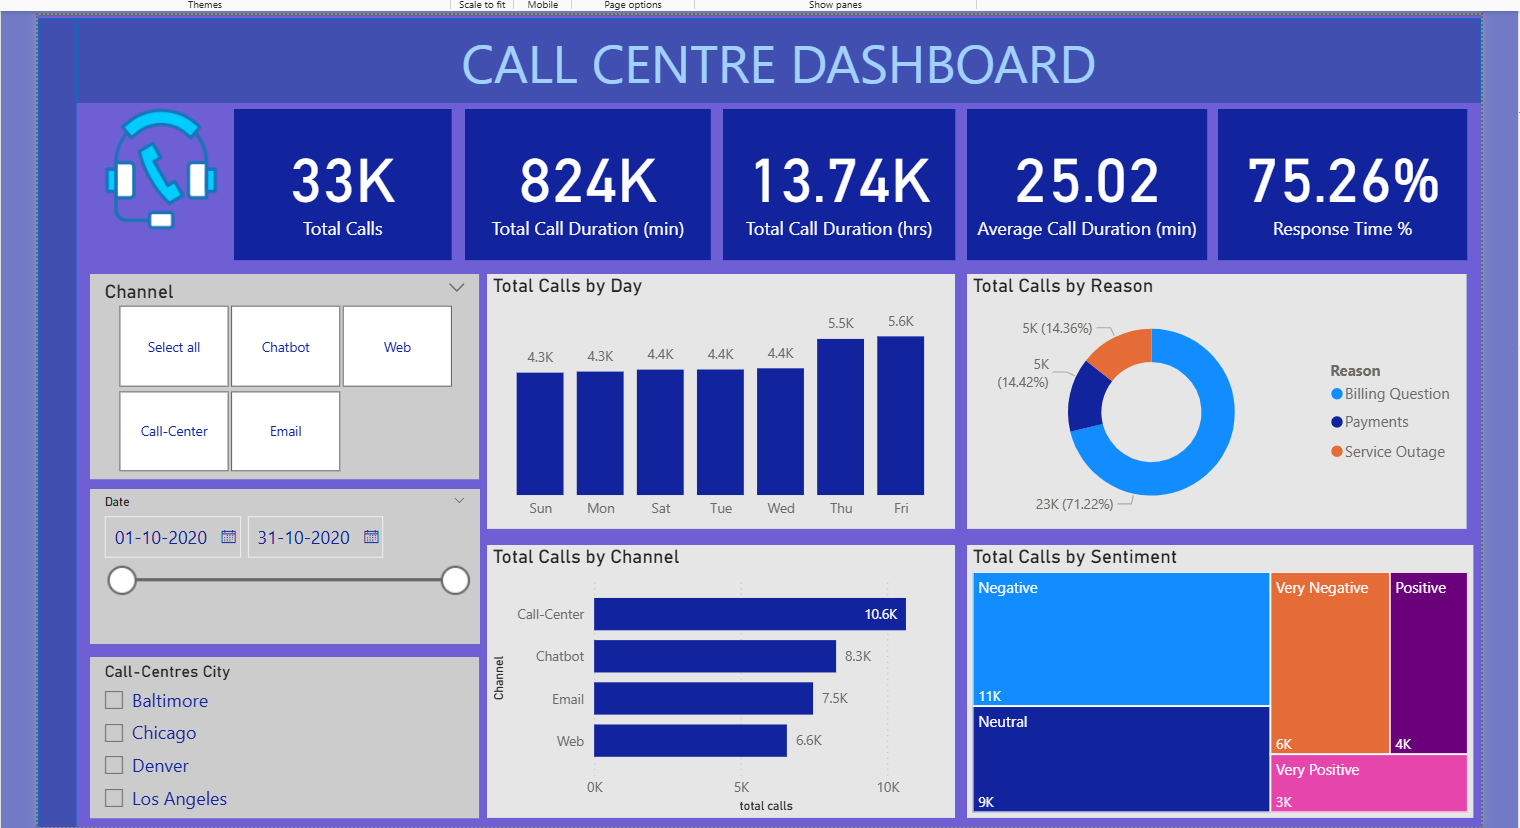

This screenshot's page, from the dashboard's own definition file:
{"tool":"powerbi","page":{"name":"Call centre Dashboard","canvas":[1280,720],"ordinal":0},"visuals":[{"type":"card","fields":{"Values":["Call Center_Call Center.total calls"]},"box":[174,83,193,134],"z":0},{"type":"card","title":"Total Call Duration (min)","fields":{"Values":["Sum(Call Center_Call Center.Call Duration In Minutes)"]},"box":[379,83,218,134],"z":1000},{"type":"card","fields":{"Values":["Call Center_Call Center.total call duartion (hrs)"]},"box":[607,83,206,134],"z":2000},{"type":"card","fields":{"Values":["Avg(Call Center_Call Center.Call Duration In Minutes)"]},"box":[824,83,213,134],"z":3000},{"type":"card","fields":{"Values":["Call Center_Call Center.response time %"]},"box":[1046,83,221,134],"z":4000},{"type":"columnChart","title":"Total Calls by Day","fields":{"Category":["Data table.Day"],"Y":["Call Center_Call Center.total calls"]},"box":[398,230,415,226],"z":5000},{"type":"clusteredBarChart","title":"Total Calls by Channel","fields":{"Category":["Call Center_Call Center.Channel"],"Y":["Call Center_Call Center.total calls"]},"box":[398,470,415,242],"z":7000},{"type":"treemap","title":"Total Calls by Sentiment","fields":{"Group":["Call Center_Call Center.Sentiment"],"Values":["Call Center_Call Center.total calls"]},"box":[824,470,449,242],"z":8000},{"type":"slicer","fields":{"Values":["Call Center_Call Center.Channel"]},"box":[46,230,345,182],"z":9000},{"type":"slicer","fields":{"Values":["Data table.Date"]},"box":[46,420,345,137],"z":10000},{"type":"donutChart","title":"Total Calls by Reason","fields":{"Category":["Call Center_Call Center.Reason"],"Y":["Call Center_Call Center.total calls"]},"box":[824,230,443,226],"z":11000},{"type":"shape","box":[0,0,34,720],"z":12000},{"type":"shape","box":[34,0,1246,78],"z":13000},{"type":"image","box":[34,78,150,117],"z":14000},{"type":"slicer","fields":{"Values":["Call Center_Call Center.Call-Centres City"]},"box":[46,569,345,143],"z":14001}]}

Visuals, with their boxes in screenshot pixels (x1, y1, x2, y2):
card - Call Center_Call Center.total calls: BBox(229, 102, 448, 254)
"Total Call Duration (min)" card: BBox(461, 102, 708, 254)
card - Call Center_Call Center.total call duartion (hrs): BBox(719, 102, 953, 254)
card - Avg(Call Center_Call Center.Call Duration In Minutes): BBox(965, 102, 1207, 254)
card - Call Center_Call Center.response time %: BBox(1217, 102, 1467, 254)
"Total Calls by Day" columnChart: BBox(483, 269, 953, 525)
"Total Calls by Channel" clusteredBarChart: BBox(483, 540, 953, 815)
"Total Calls by Sentiment" treemap: BBox(965, 540, 1474, 815)
slicer - Call Center_Call Center.Channel: BBox(84, 269, 475, 475)
slicer - Data table.Date: BBox(84, 484, 475, 639)
"Total Calls by Reason" donutChart: BBox(965, 269, 1467, 525)
shape: BBox(32, 8, 70, 824)
shape: BBox(70, 8, 1482, 96)
image: BBox(70, 96, 240, 229)
slicer - Call Center_Call Center.Call-Centres City: BBox(84, 653, 475, 815)
